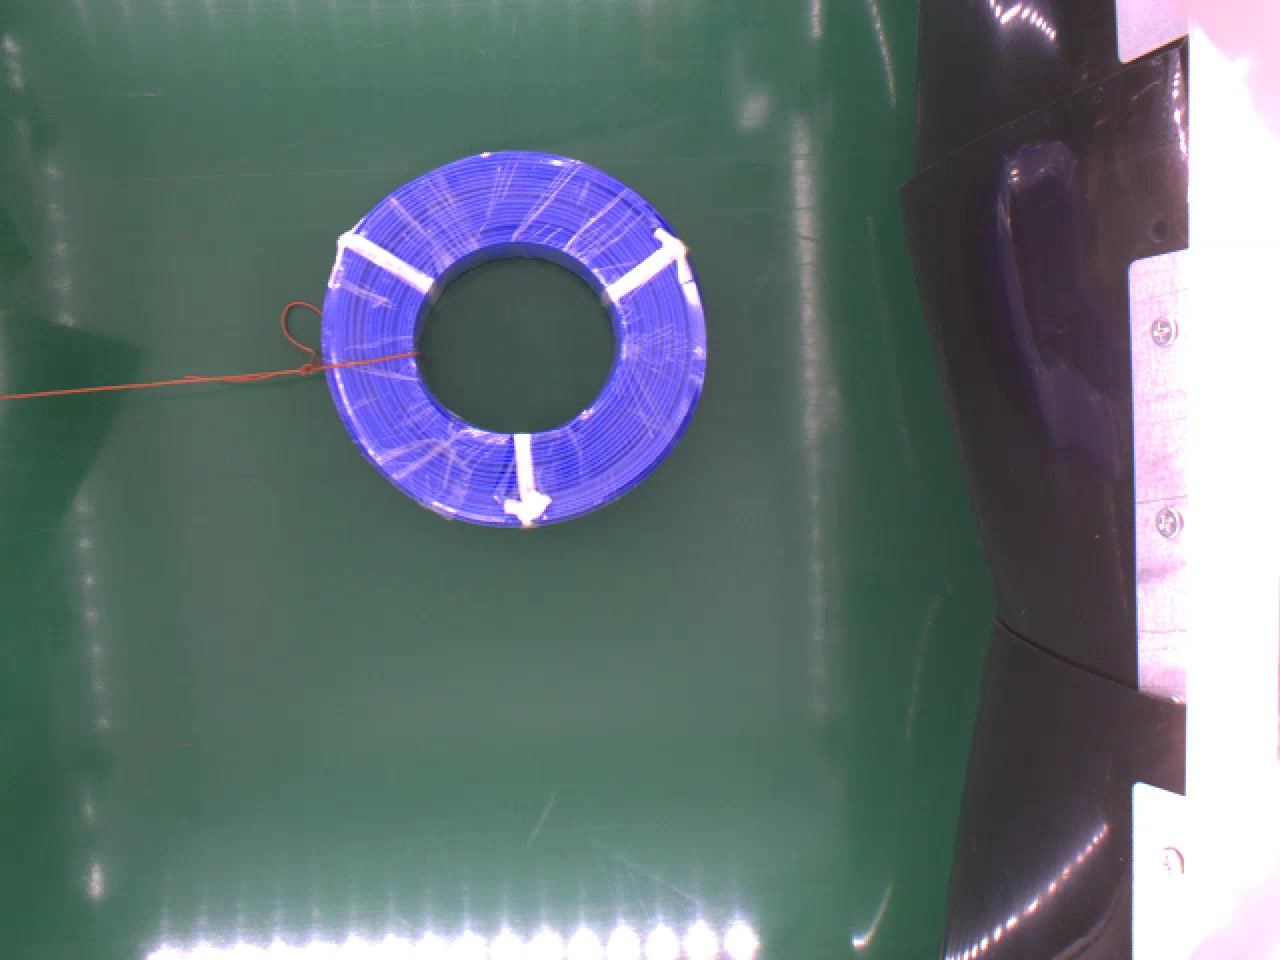blue: (318, 142, 713, 522)
